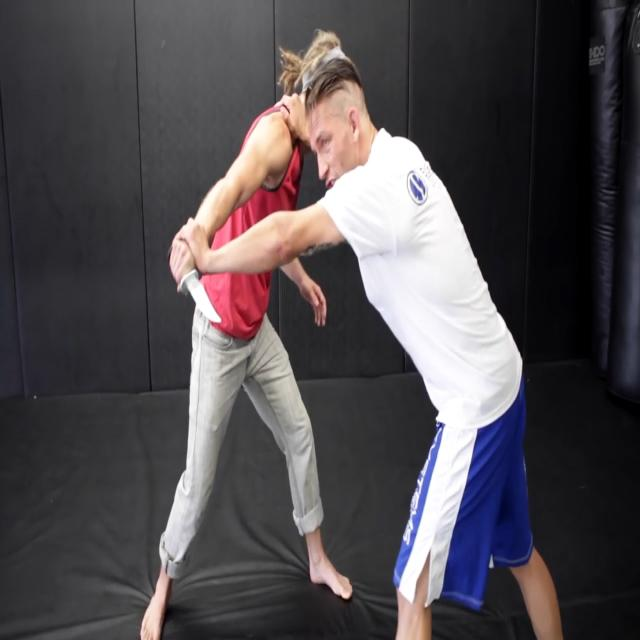knife: (180, 271, 226, 328)
